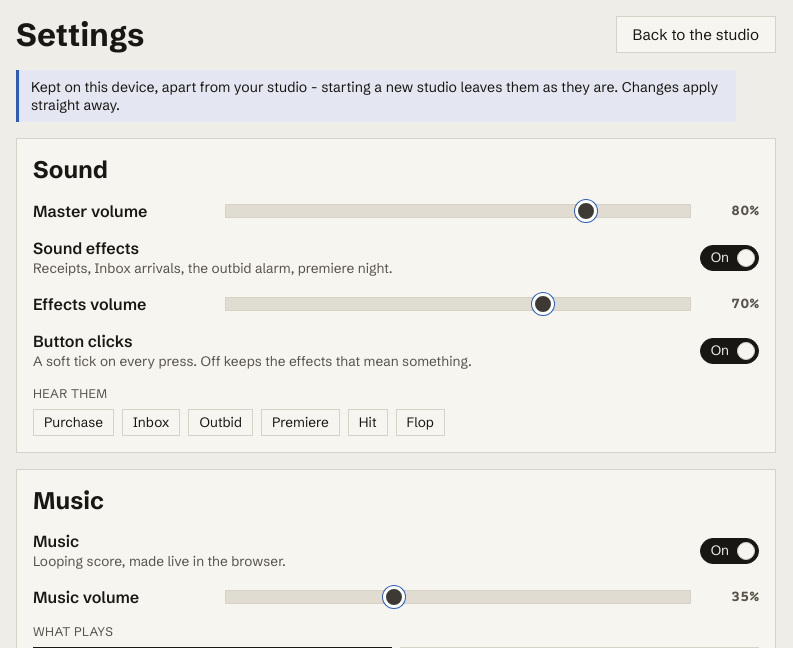
Test: SettingsPage › sets a volume from its slider
Set the slider labelled "Master volume" to "25" at (346, 211), box [225,204,691,218]
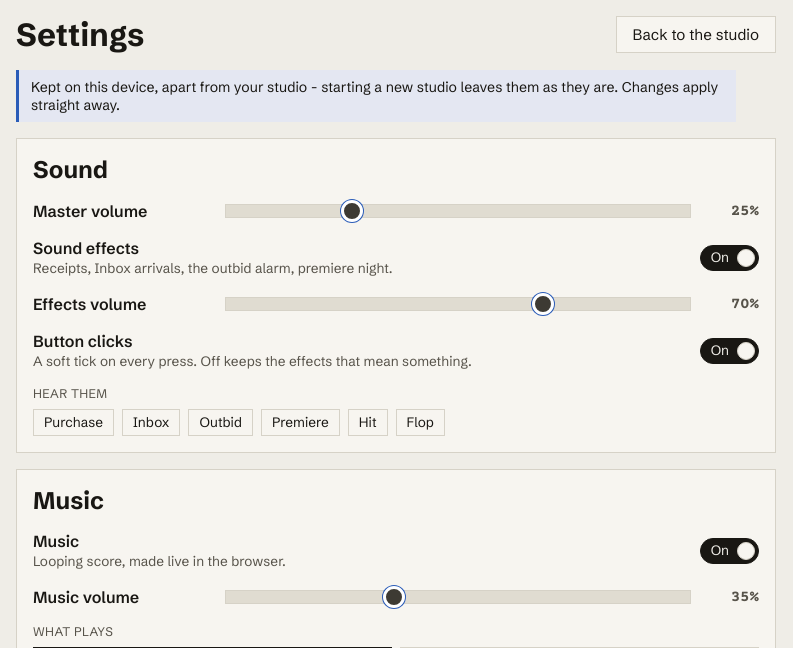
expect the text "25%" is shown: met, box [731,202,759,220]
